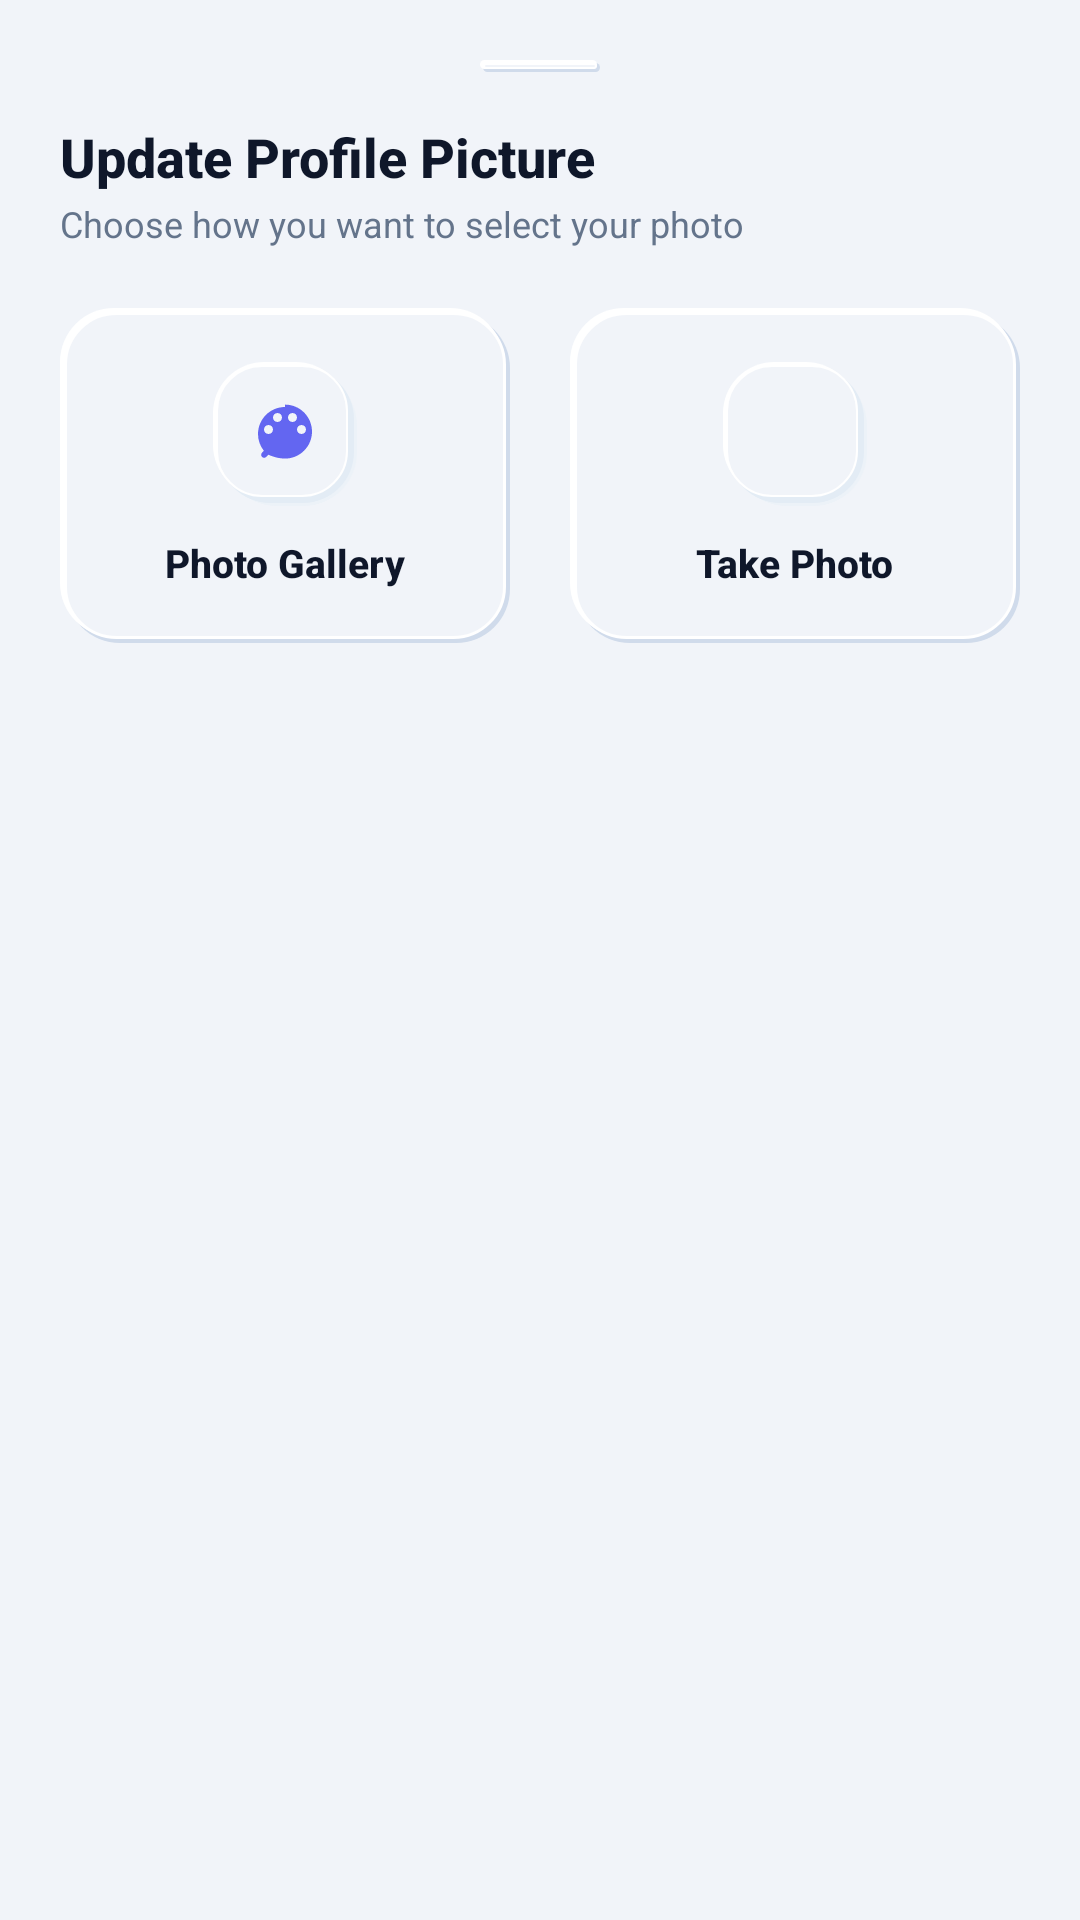

Where to tap for icons on this 1080w x 1920h app screen, as (x,y):
palette: (285,431)
